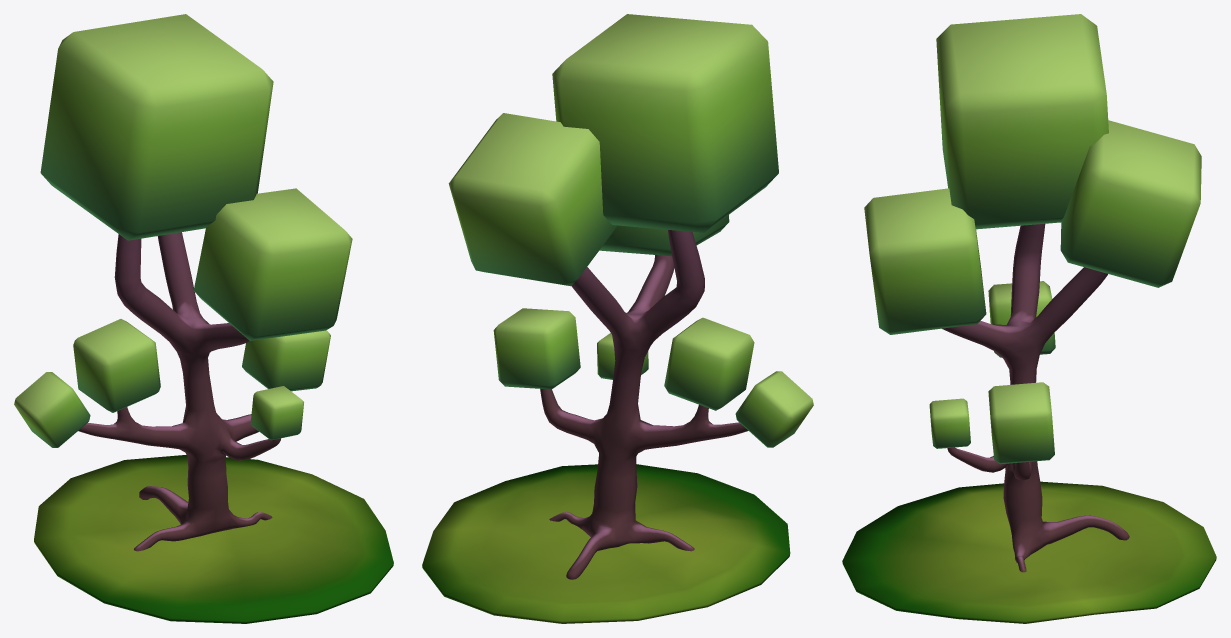
File: Tree.glb
The picture shows the model from 3 angles, left to right: view 1: azimuth 30°, elevation 25°; view 2: azimuth 150°, elevation 25°; view 3: azimuth 270°, elevation 25°; orthographic projection. The views are drawn at different scales.
Parts seen in each view (by area): view 1: TreeBark_03_Clean, Tree_03_Ground_Baked; view 2: TreeBark_03_Clean, Tree_03_Ground_Baked; view 3: TreeBark_03_Clean, Tree_03_Ground_Baked.
Boxes of the visible parts, x1,y1,x2,y2 form: TreeBark_03_Clean: [14, 14, 352, 551]; Tree_03_Ground_Baked: [34, 455, 393, 623]; TreeBark_03_Clean: [448, 14, 813, 579]; Tree_03_Ground_Baked: [422, 464, 790, 623]; TreeBark_03_Clean: [864, 14, 1201, 572]; Tree_03_Ground_Baked: [842, 481, 1216, 623].
Bounding box in the file's own units: 1207 × 1755 × 1203.
2 materials, 2 textured.
